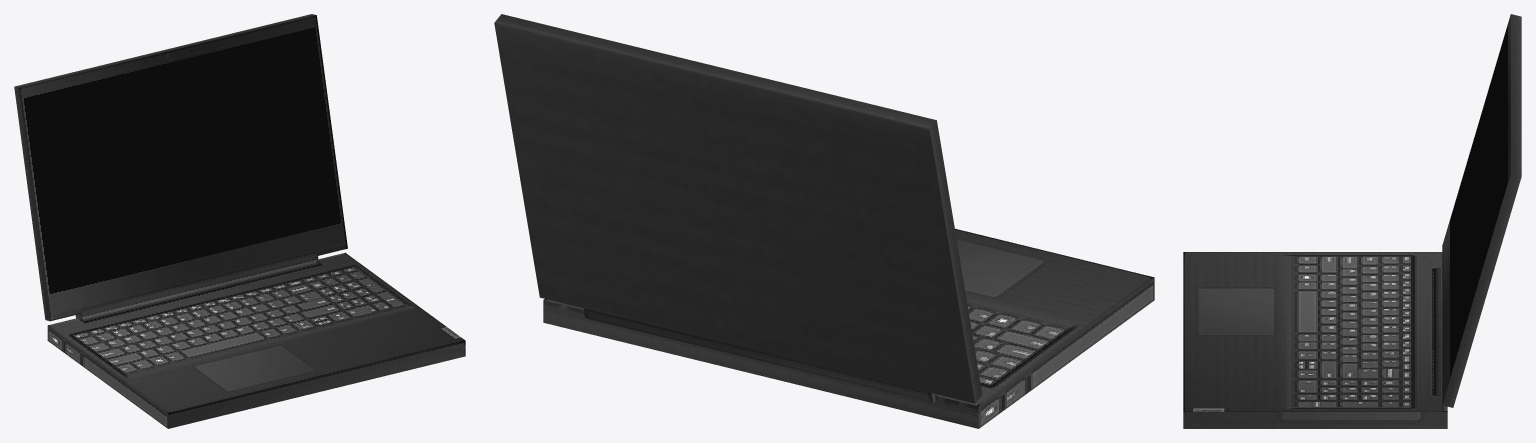
Rendered from psx_laptop.glb.
The picture shows the model from 3 angles, left to right: view 1: azimuth 30°, elevation 25°; view 2: azimuth 150°, elevation 25°; view 3: azimuth 270°, elevation 25°; orthographic projection. The views are drawn at different scales.
Parts seen in each view (by area): view 1: LaptopScreen, LaptopKeyboard; view 2: LaptopScreen, LaptopKeyboard; view 3: LaptopKeyboard, LaptopScreen.
Part boxes in pixels (x1,y1,x2,y2): LaptopScreen: [14, 14, 347, 321]; LaptopKeyboard: [47, 252, 465, 428]; LaptopScreen: [494, 14, 982, 403]; LaptopKeyboard: [543, 228, 1154, 428]; LaptopKeyboard: [1183, 252, 1447, 428]; LaptopScreen: [1440, 14, 1521, 407].
Size of the model in its own units: 0.5 by 0.3725 by 0.4478.
1 material, 1 textured.
